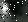person: (1, 4, 10, 15)
